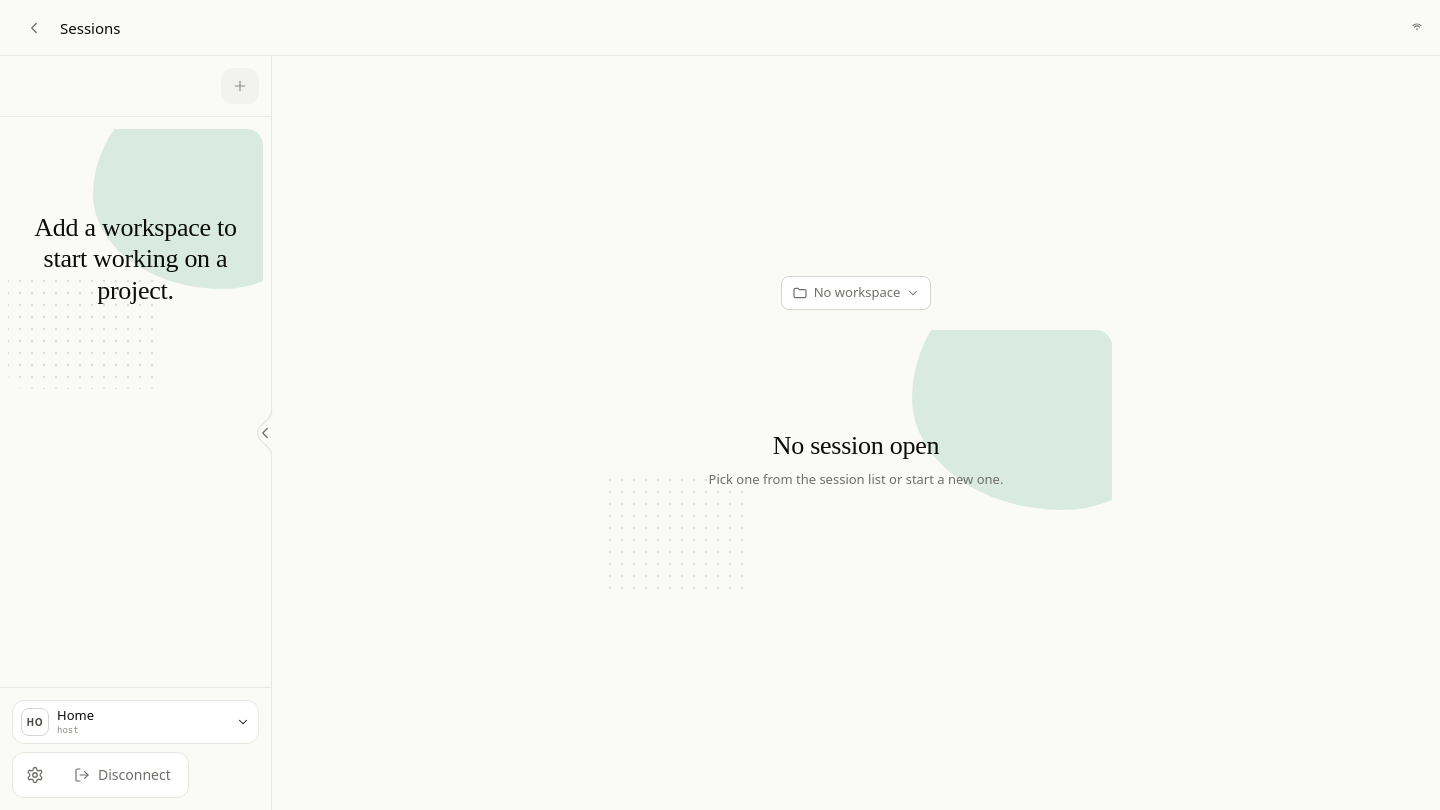
Test: web multi-server connection lifecycle › shows session-specific copy when a saved switch expires
The width and height of the screenshot is (1440, 810).
Expected: the button named "New session" is shown, [221,68,259,104]
Click the button with aria-label "Server: Home" at x=136, y=722, box [12,700,259,744]
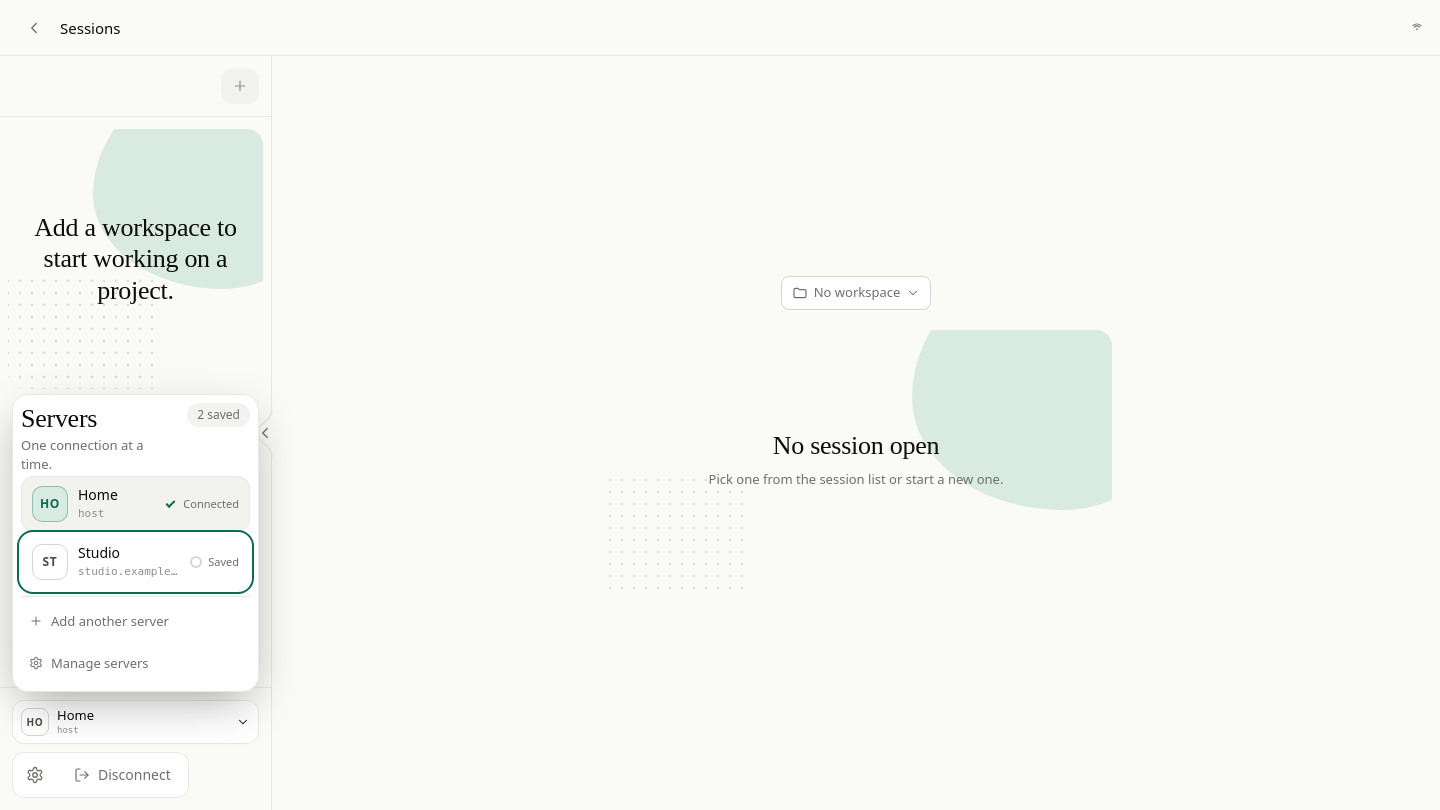
Click the button "ST Studio studio.example.com Saved" at x=136, y=562, box [21,534,250,590]
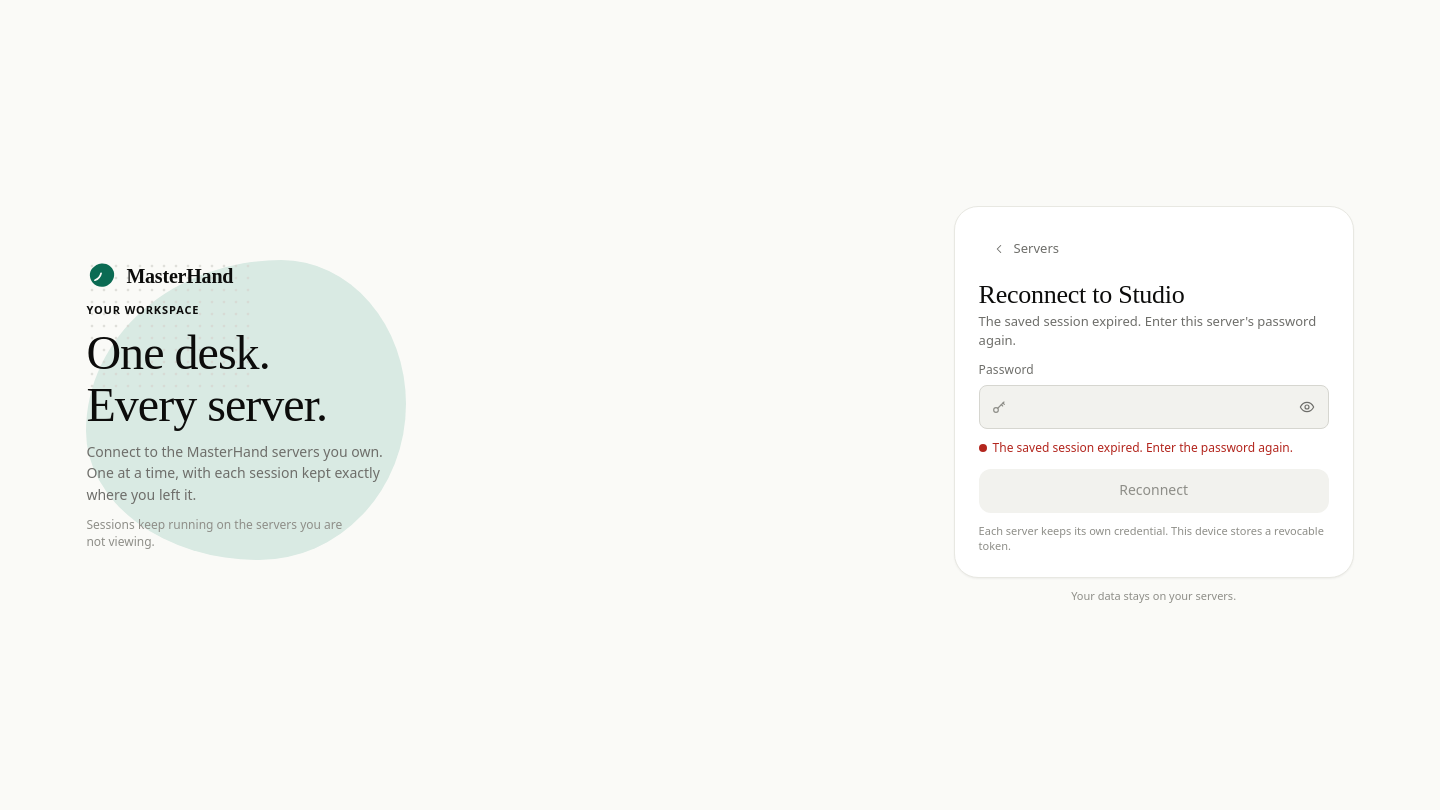
Expected: the heading "Reconnect to Studio" is shown, [979,280,1184,309]
Expected: the text "The saved session expired. Enter the password again." is shown, [979,439,1329,457]
